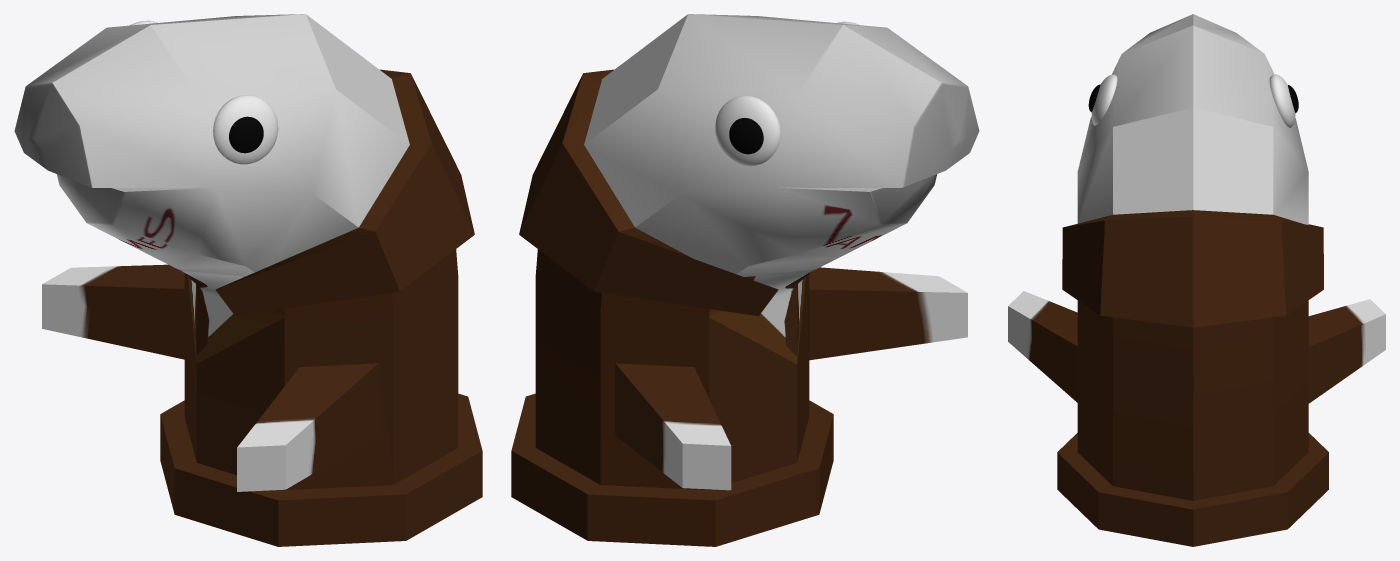
The model's file is puppet.fbx.
3 renders of one model, left to right at view 1: azimuth 30°, elevation 25°; view 2: azimuth 150°, elevation 25°; view 3: azimuth 270°, elevation 25°, orthographic. The views are drawn at different scales.
Parts seen in each view (by area): view 1: Puppet, Eye, Eye.001; view 2: Puppet, Eye.003, Eye.002; view 3: Puppet, Eye.003, Eye.
Part boxes in pixels (left/top/right/bottom): Puppet: left=14, top=14, right=482, bottom=546; Eye: left=213, top=95, right=278, bottom=164; Eye.001: left=229, top=116, right=263, bottom=153; Puppet: left=511, top=14, right=979, bottom=546; Eye.003: left=715, top=95, right=780, bottom=166; Eye.002: left=729, top=118, right=763, bottom=154; Puppet: left=1008, top=14, right=1385, bottom=546; Eye.003: left=1269, top=74, right=1295, bottom=127; Eye: left=1091, top=74, right=1117, bottom=125.
Size of the model in its own units: 300 by 328 by 283.
Materials: 2 (1 with a texture image).
